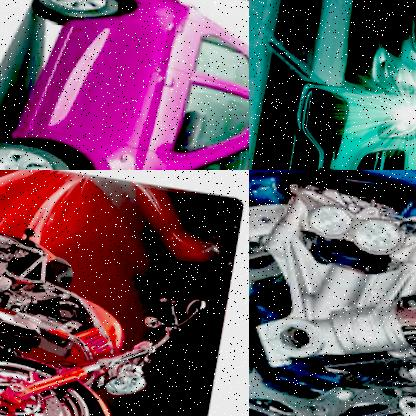bike: (0, 214, 214, 416), (249, 170, 416, 416)
car: (249, 67, 416, 170), (339, 0, 416, 107)
